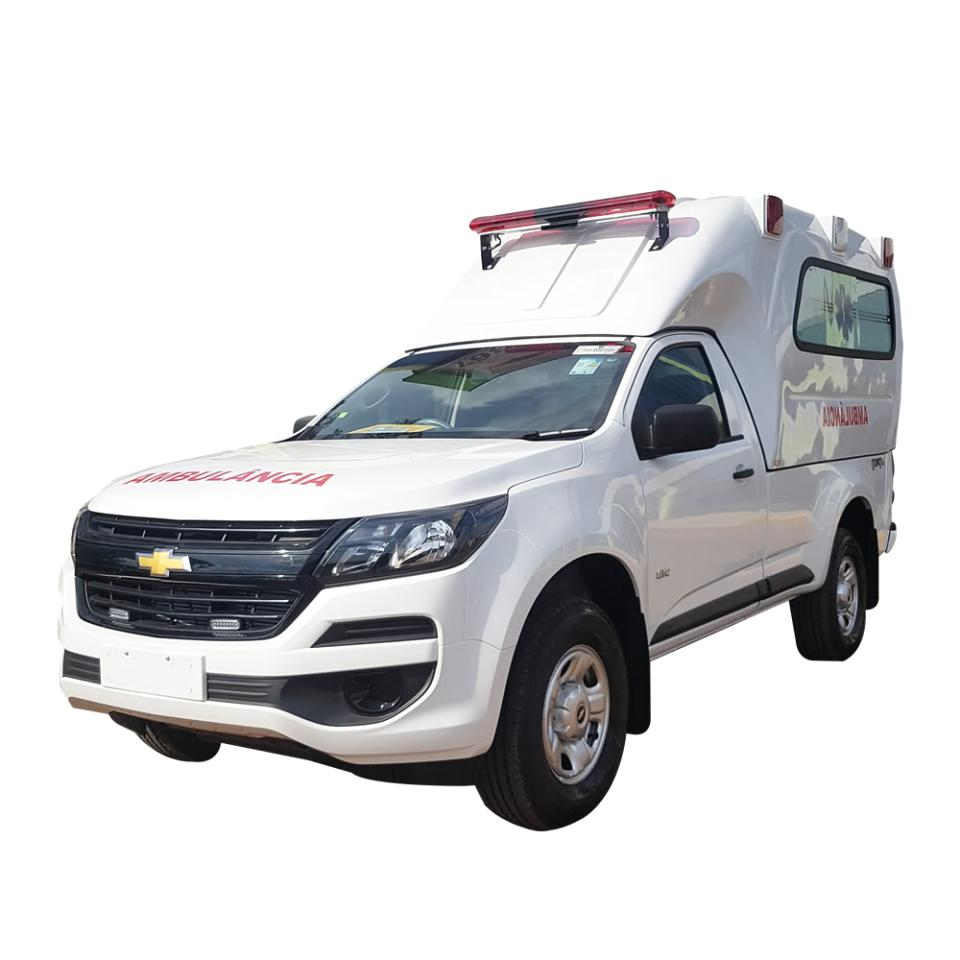ambulancia: (55, 191, 902, 832)
